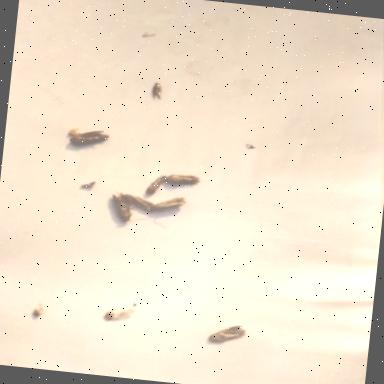pbw: (106, 190, 146, 228), (204, 319, 250, 349), (66, 124, 114, 152), (145, 192, 190, 218), (117, 188, 159, 214), (141, 168, 171, 200), (99, 301, 136, 326), (160, 170, 206, 188), (147, 79, 170, 104)
